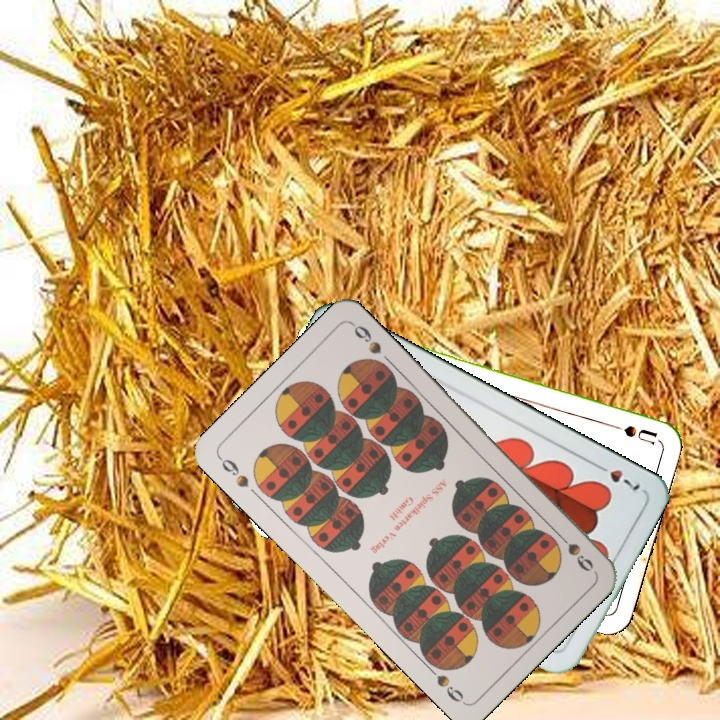H7: (590, 459, 643, 494)
S9: (551, 527, 596, 574), (214, 452, 252, 490)
SU: (600, 417, 659, 446)
